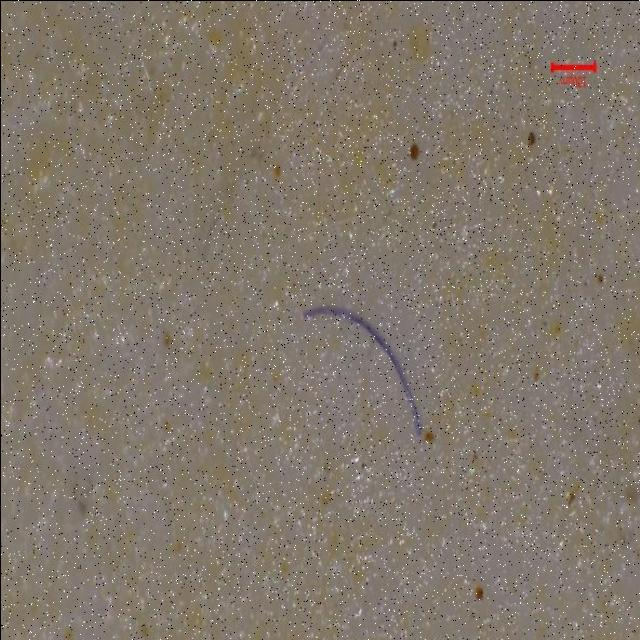Fibre: (300, 298, 422, 432)
